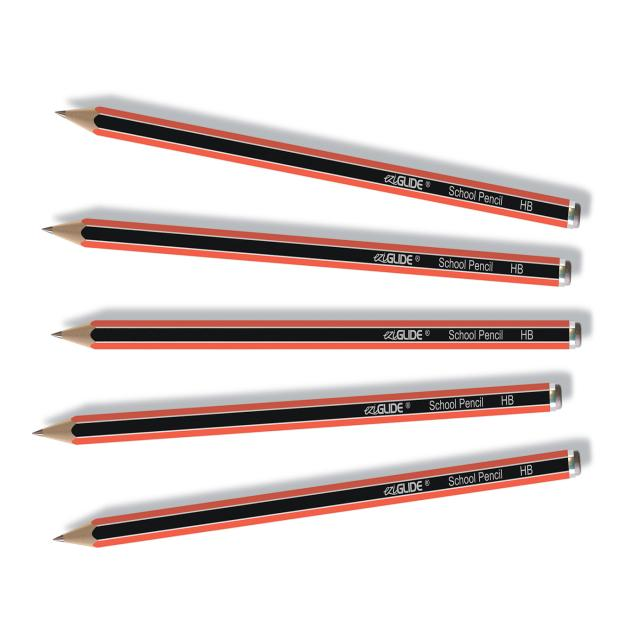pencil: (42, 87, 587, 239), (54, 451, 580, 546), (19, 373, 576, 460), (43, 218, 571, 286), (48, 314, 586, 356)
